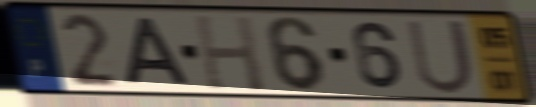2: (57, 10, 125, 90)
6: (264, 14, 329, 94), (350, 19, 407, 92)
A: (121, 15, 195, 88)
H: (191, 12, 268, 94)
U: (403, 17, 477, 97)
